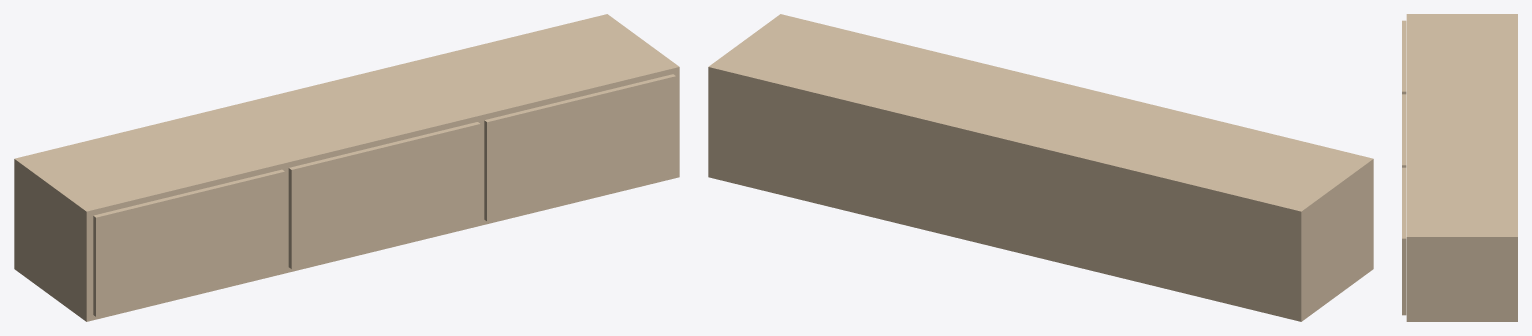
3 renders of one model, left to right at view 1: azimuth 30°, elevation 25°; view 2: azimuth 150°, elevation 25°; view 3: azimuth 270°, elevation 25°, orthographic. The views are drawn at different scales.
Visible parts, largest first — view 1: Cube, Cube.002, Cube.001, Cube.003; view 2: Cube; view 3: Cube, Cube.003, Cube.001, Cube.002.
Part boxes in pixels (x1,y1,x2,y2): Cube: [14, 14, 679, 321]; Cube.002: [288, 122, 480, 269]; Cube.001: [93, 169, 284, 316]; Cube.003: [484, 74, 675, 221]; Cube: [708, 14, 1373, 321]; Cube: [1406, 14, 1517, 321]; Cube.003: [1402, 167, 1406, 315]; Cube.001: [1402, 20, 1406, 94]; Cube.002: [1402, 94, 1406, 167].
Size of the model in its own units: 1.8 by 0.32 by 0.3955.
